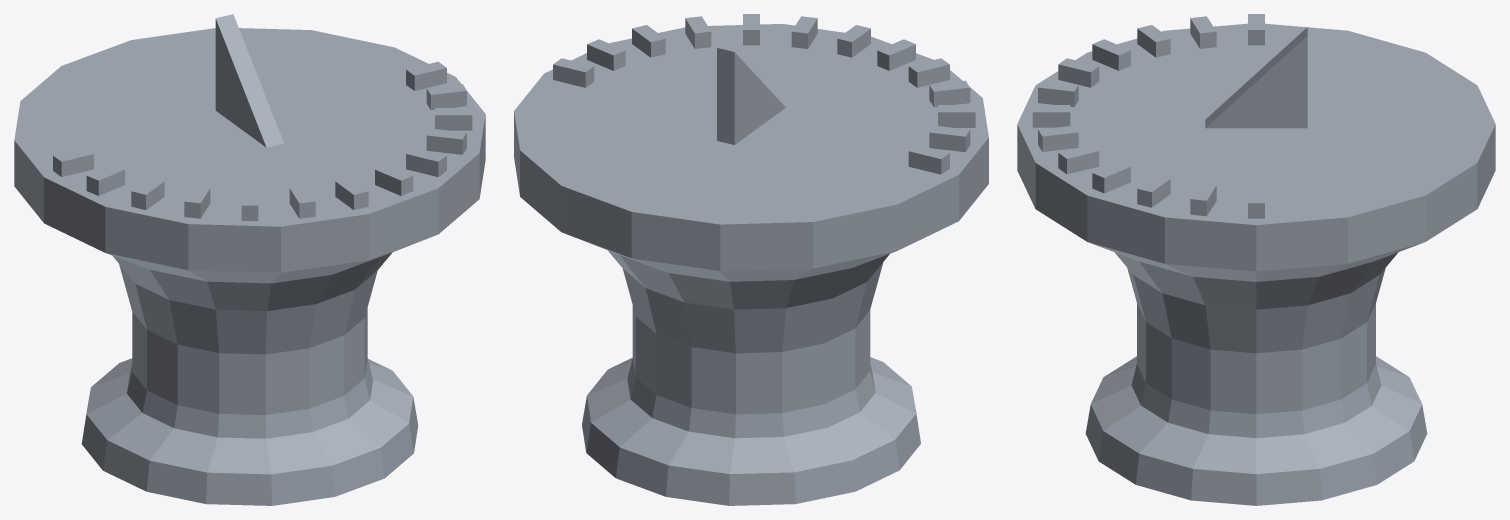
Rendered from Sun_Clock.fbx.
The picture shows the model from 3 angles, left to right: view 1: azimuth 30°, elevation 25°; view 2: azimuth 150°, elevation 25°; view 3: azimuth 270°, elevation 25°; orthographic projection.
Visible parts, largest first — view 1: Sun Clock; view 2: Sun Clock; view 3: Sun Clock.
Part boxes in pixels (box(x1,y1,x2,y2)): Sun Clock: box(14, 14, 485, 505); Sun Clock: box(514, 14, 988, 505); Sun Clock: box(1017, 14, 1495, 505).
Size of the model in its own units: 168 by 156 by 168.
